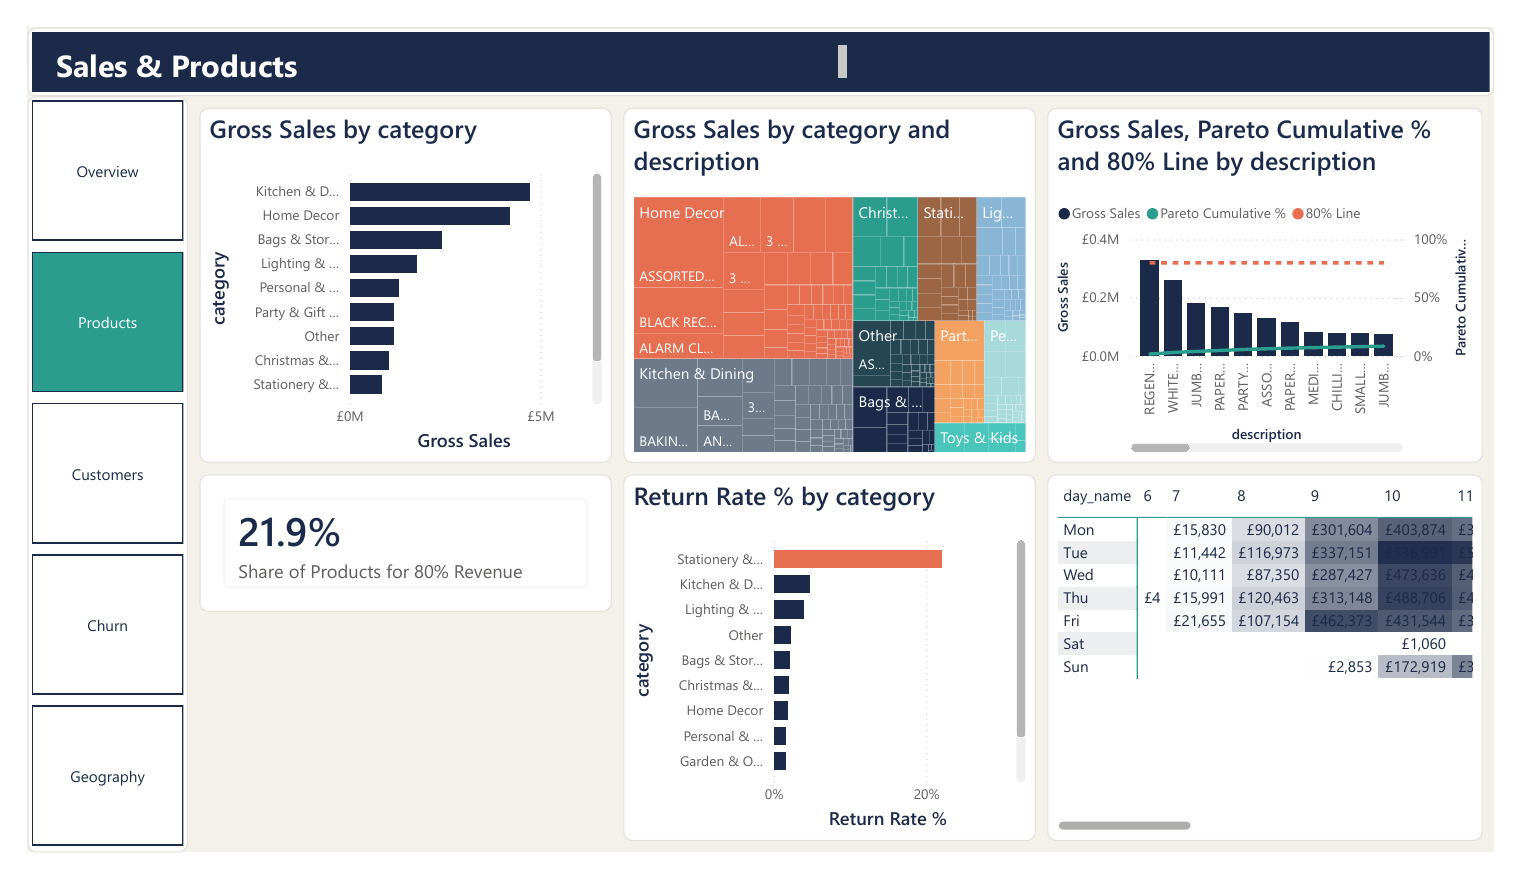

This screenshot's page, from the dashboard's own definition file:
{"tool":"powerbi","page":{"name":"Products","canvas":[1280,720],"ordinal":1},"visuals":[{"type":"shape","box":[0,0,1280,60],"z":0},{"type":"textbox","box":[20,10,700,40],"z":1000},{"type":"pageNavigator","box":[0,60,140,660],"z":2000},{"type":"clusteredBarChart","fields":{"Category":["dim_product.category"],"Y":["_Measures.Gross Sales"]},"box":[150,70,360,310],"z":2001},{"type":"treemap","fields":{"Group":["dim_product.category"],"Details":["dim_product.description"],"Values":["_Measures.Gross Sales"]},"box":[520,70,360,310],"z":2002},{"type":"lineStackedColumnComboChart","fields":{"Category":["dim_product.description"],"Y":["_Measures.Gross Sales"],"Y2":["_Measures.Pareto Cumulative %","_Measures.80% Line"]},"box":[890,70,380,310],"z":2003},{"type":"cardVisual","fields":{"Data":["_Measures.Share of Products for 80% Revenue"]},"box":[150,390,360,120],"z":2004},{"type":"barChart","fields":{"Y":["_Measures.Return Rate %"],"Category":["dim_product.category"]},"box":[520,390,360,320],"z":2005},{"type":"pivotTable","fields":{"Rows":["dim_date.day_name"],"Columns":["fact_sales.invoice_hour"],"Values":["_Measures.Gross Sales"]},"box":[890,390,380,320],"z":2006}]}

Visuals, with their boxes in screenshot pixels (x1, y1, x2, y2), scaled from the page's 1280x720 canvas onto the 1522x880 screenshot:
shape: <bbox>0, 0, 1521, 73</bbox>
textbox: <bbox>24, 12, 856, 61</bbox>
pageNavigator: <bbox>0, 73, 166, 879</bbox>
clusteredBarChart - dim_product.category x _Measures.Gross Sales: <bbox>178, 86, 606, 464</bbox>
treemap - dim_product.category x dim_product.description: <bbox>618, 86, 1046, 464</bbox>
lineStackedColumnComboChart - dim_product.description x _Measures.Gross Sales: <bbox>1058, 86, 1510, 464</bbox>
cardVisual - _Measures.Share of Products for 80% Revenue: <bbox>178, 477, 606, 623</bbox>
barChart - _Measures.Return Rate % x dim_product.category: <bbox>618, 477, 1046, 868</bbox>
pivotTable - dim_date.day_name x fact_sales.invoice_hour: <bbox>1058, 477, 1510, 868</bbox>
